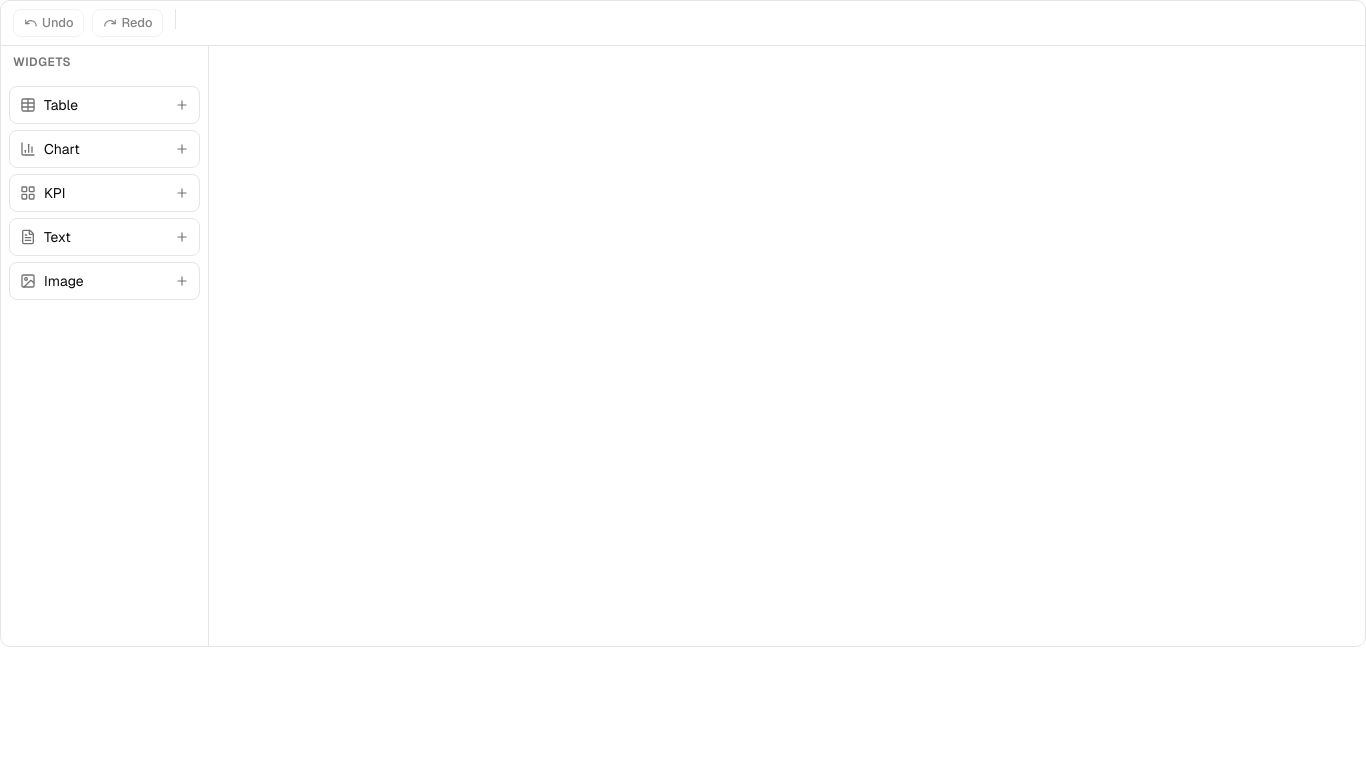
Test: ReportBuilder › clicking palette adds widget to canvas
Click the button with test id "palette-table" at (104,105), box [9,86,200,124]
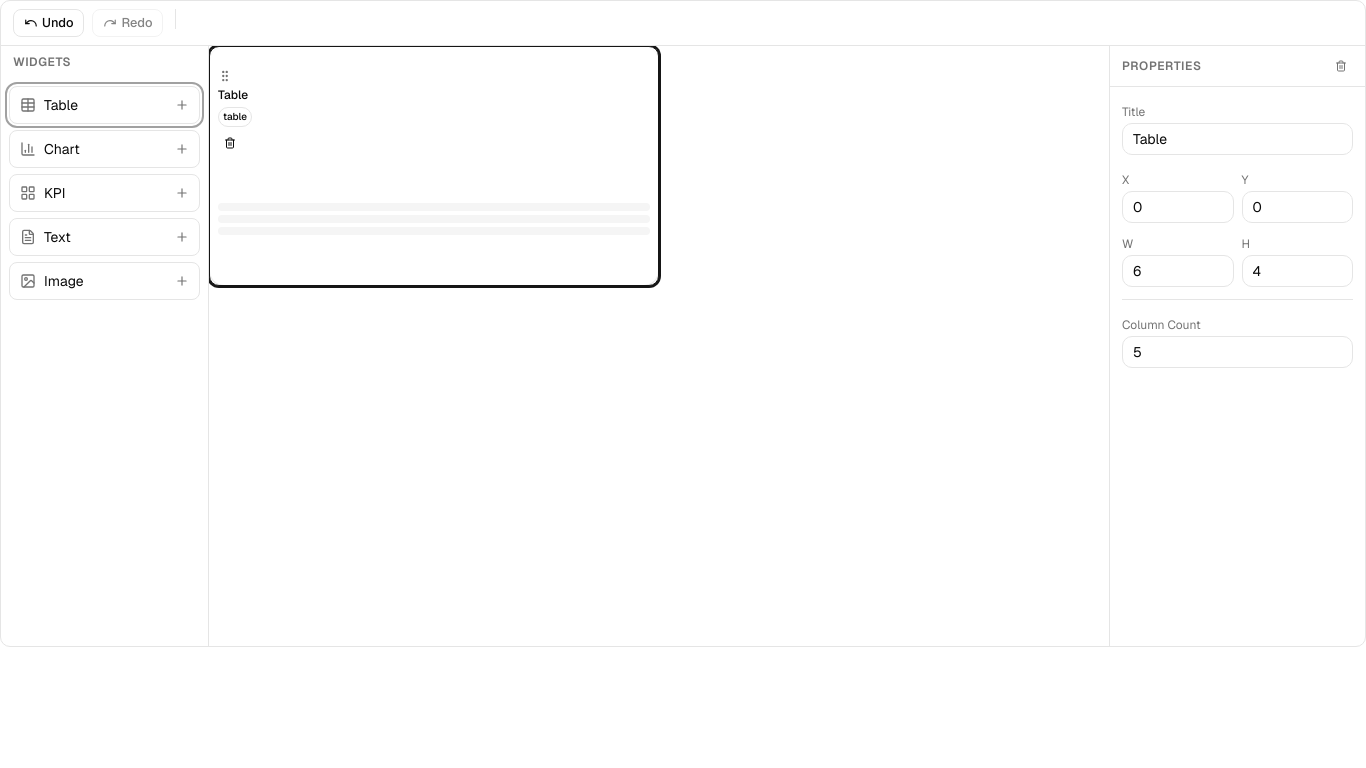
Expected: the text "Table" below "Widgets" is shown, [44,96,78,114]
Expected: the icon "table" is shown, [218,107,252,127]
